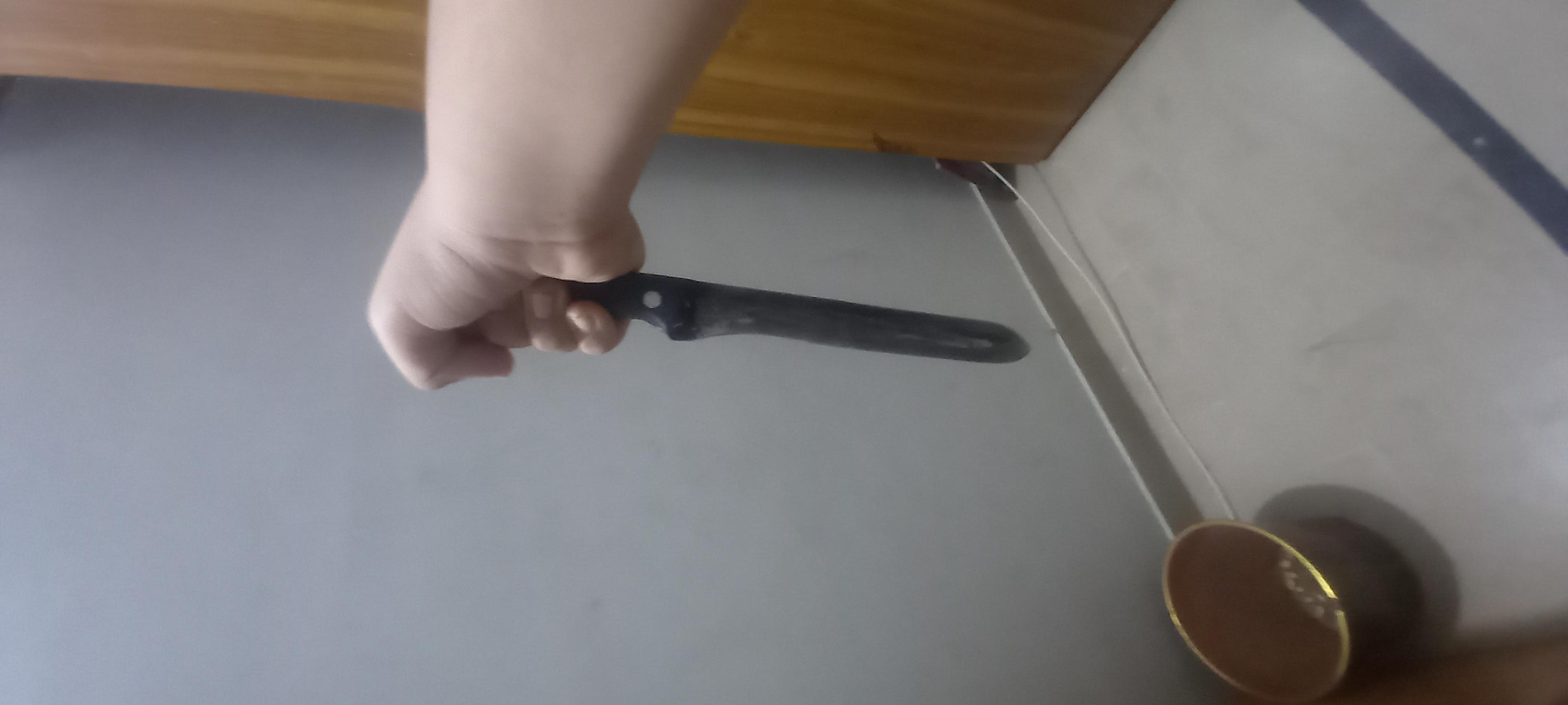knives: (712, 194, 1017, 470)
